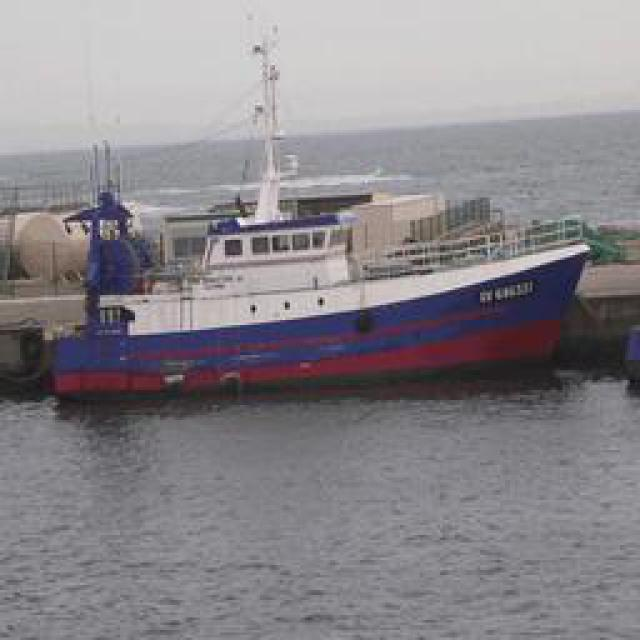Ship: (1, 187, 601, 405)
